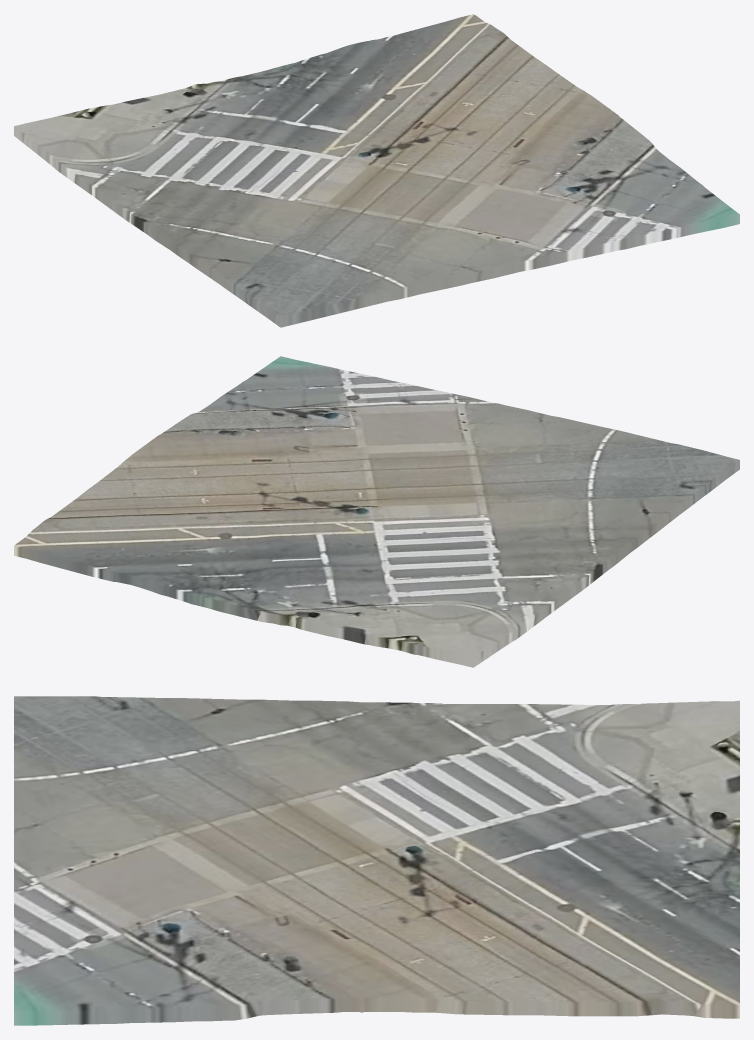
The model's file is z20-167778-405206-h0-yup-uvflip-v3-world.glb.
3 renders of one model, top to bottom at view 1: azimuth 30°, elevation 25°; view 2: azimuth 150°, elevation 25°; view 3: azimuth 270°, elevation 25°, orthographic. The views are drawn at different scales.
Size of the model in its own units: 30.16 by 1.4 by 30.32.
1 material, 1 textured.
